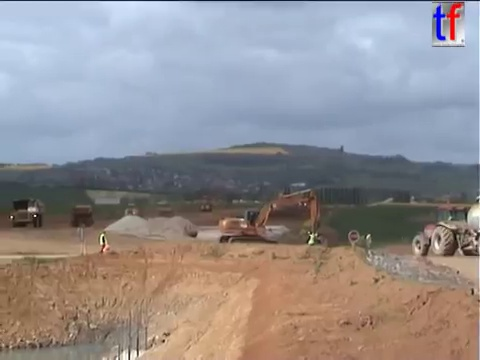excavator: (217, 186, 325, 251)
truck: (409, 196, 480, 258), (8, 196, 44, 229), (69, 203, 94, 227), (155, 200, 175, 219), (122, 202, 141, 219), (199, 201, 211, 212)
worker: (96, 228, 111, 255), (362, 230, 374, 251), (305, 228, 316, 248), (312, 228, 322, 248)
